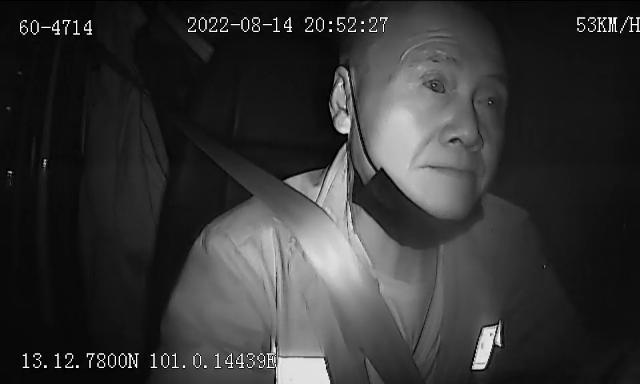SafeDriving: (414, 64, 454, 106), (470, 80, 506, 118)
Seatbelt: (196, 131, 432, 384)
